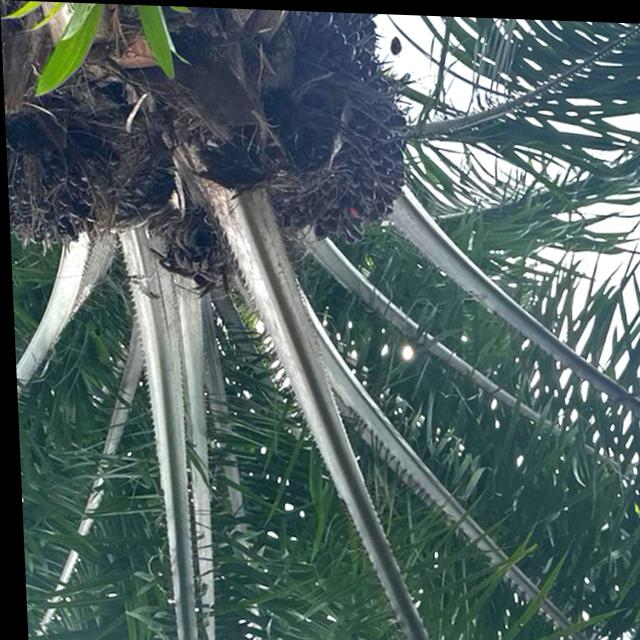ripe: (245, 33, 408, 246), (4, 119, 121, 262)
